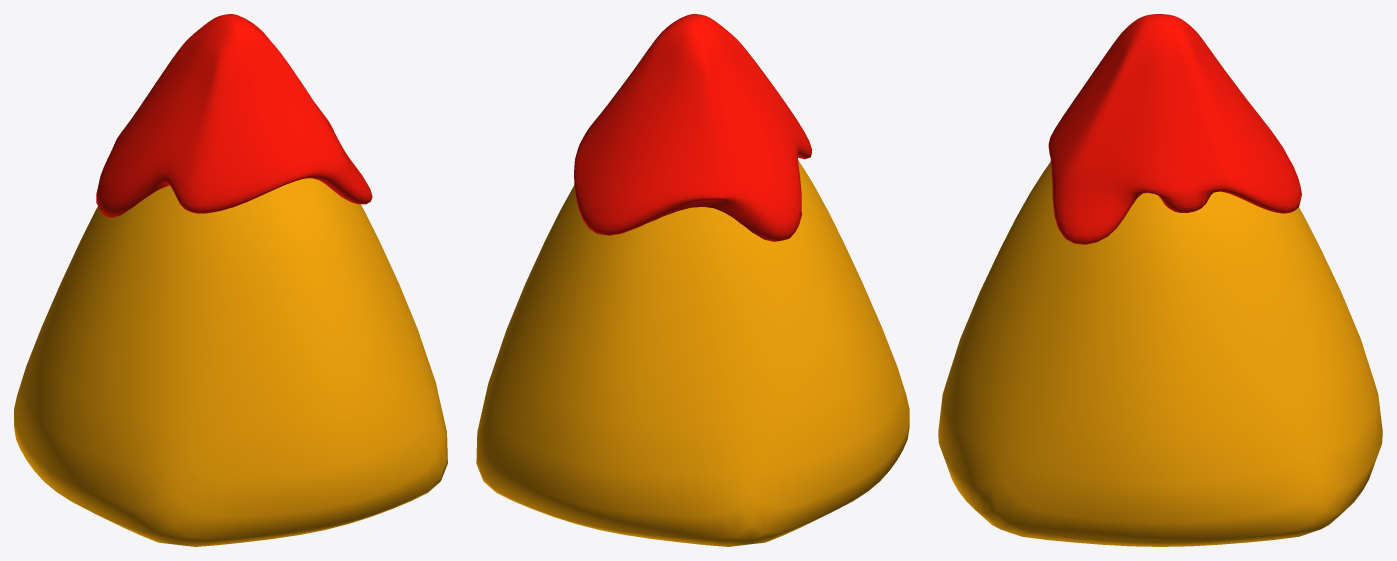
Rendered from Mountain.fbx.
3 views of the same model, side by side, from view 1: azimuth 30°, elevation 25°; view 2: azimuth 150°, elevation 25°; view 3: azimuth 270°, elevation 25° (orthographic). The views are drawn at different scales.
Parts seen in each view (by area): view 1: Montagne; view 2: Montagne; view 3: Montagne.
Part boxes in pixels (x1,y1,x2,y2): Montagne: (14,14,447,546); Montagne: (476,14,909,546); Montagne: (938,14,1382,546).
Bounding box in the file's own units: 6881 × 8121 × 7143.
